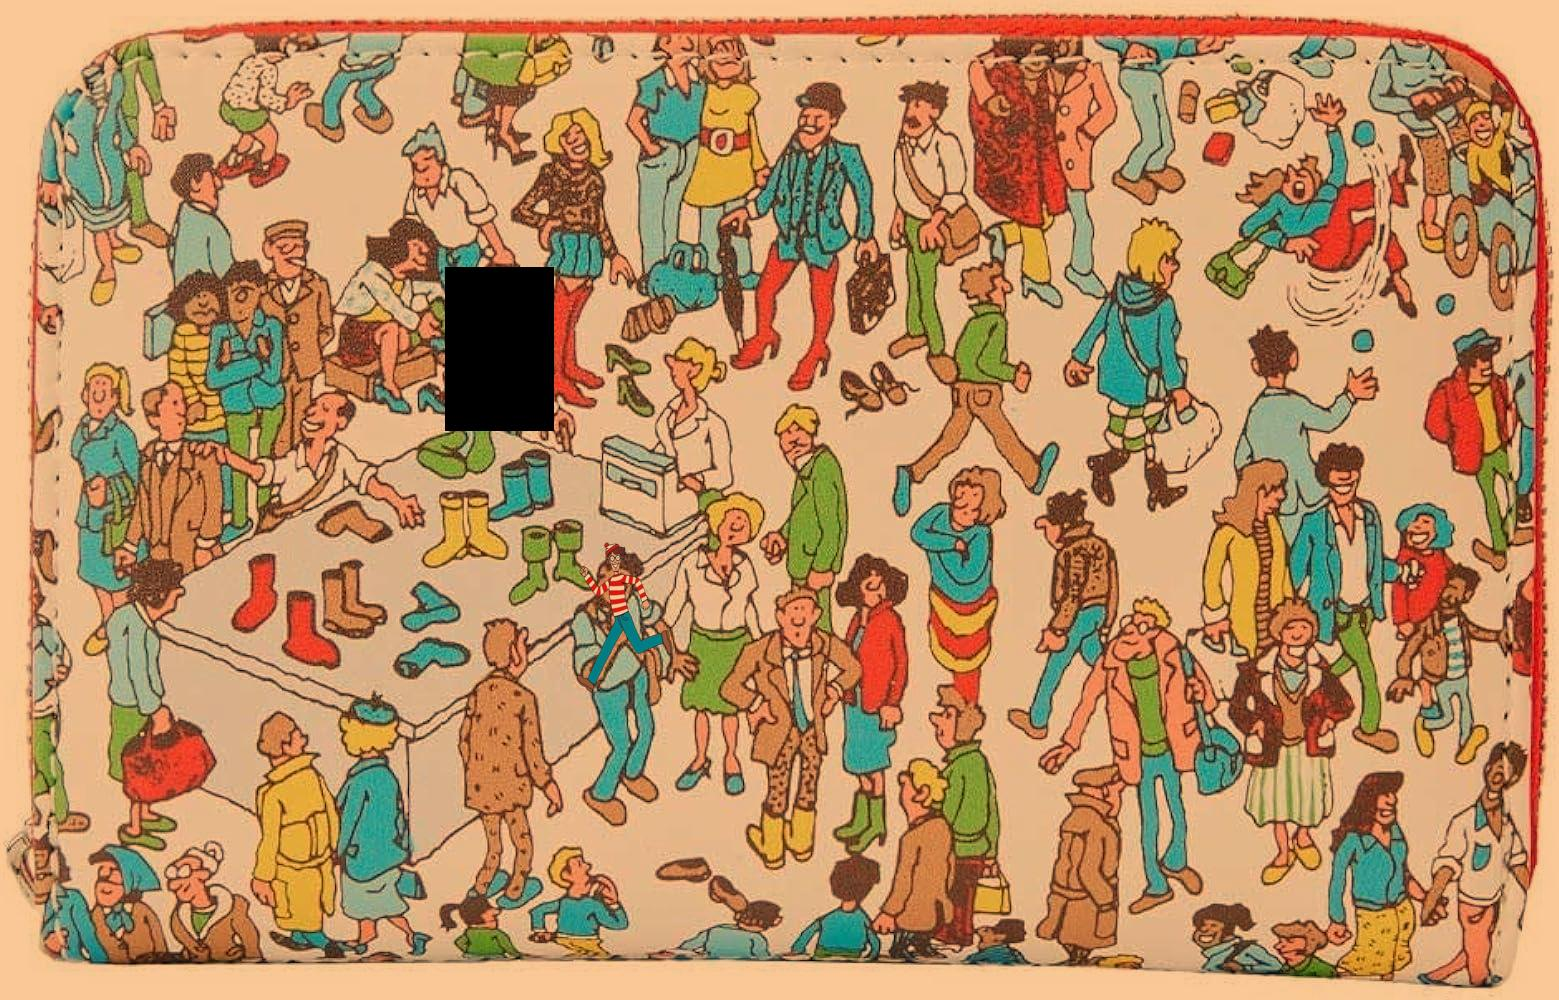waldos: (570, 533, 680, 697)
